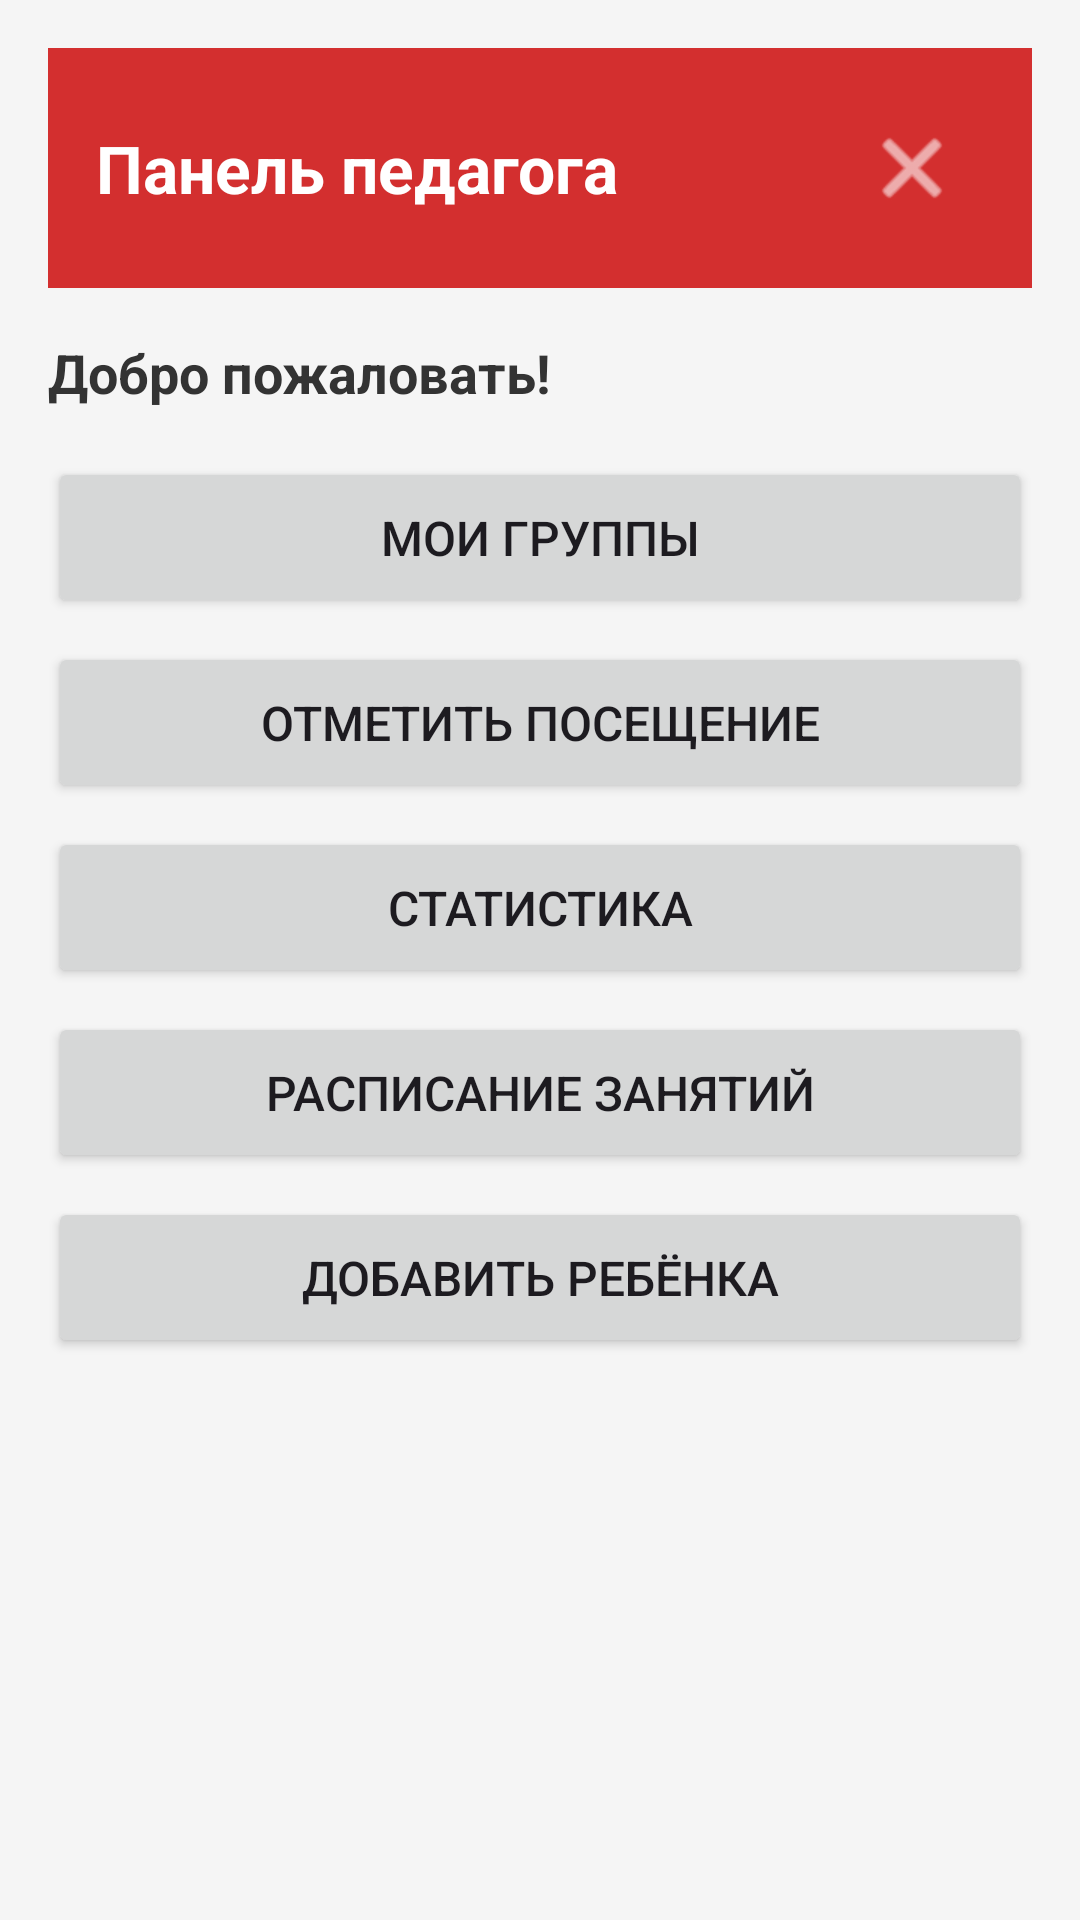

Where to tap for icons on this 1080w x 1920h app screen, as (x,y):
Выйти: (912,168)
